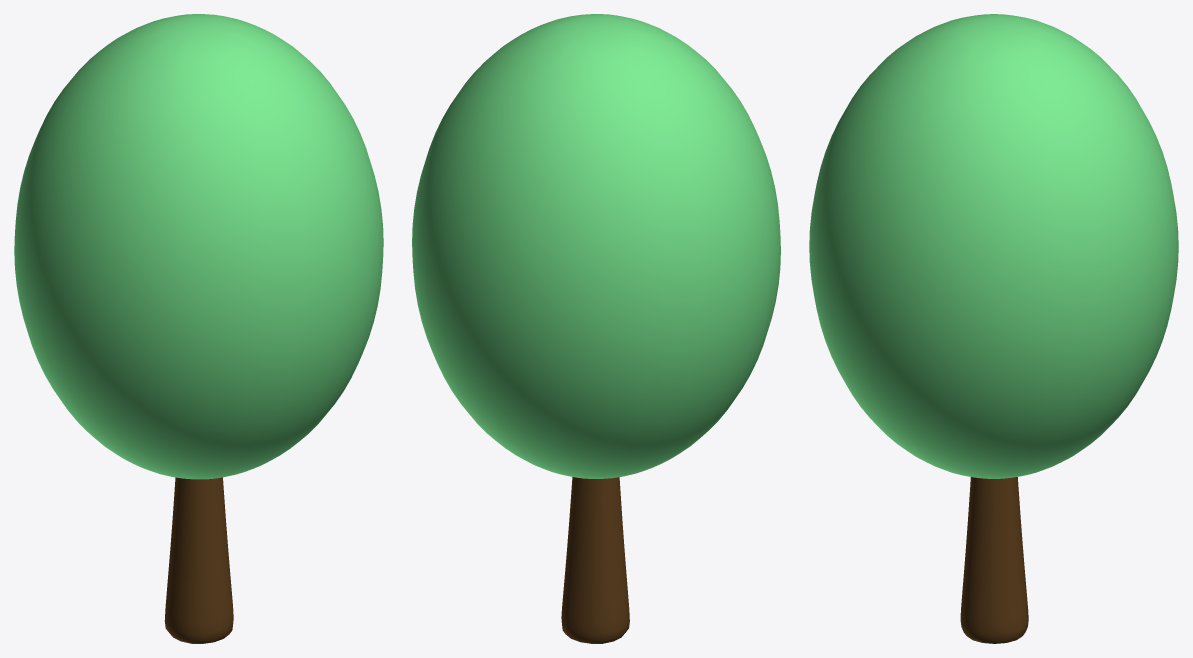
The model's file is treeLP2.glb.
3 views of the same model, side by side, from view 1: azimuth 30°, elevation 25°; view 2: azimuth 150°, elevation 25°; view 3: azimuth 270°, elevation 25° (orthographic).
Visible parts, largest first — view 1: Sphere, Cube; view 2: Sphere, Cube; view 3: Sphere, Cube.
Boxes of the visible parts, box(x1,y1,x2,y2) form: Sphere: box(14, 14, 383, 479); Cube: box(164, 477, 233, 643); Sphere: box(412, 14, 780, 478); Cube: box(561, 477, 629, 643); Sphere: box(809, 14, 1178, 478); Cube: box(960, 477, 1028, 643).
Bounding box in the file's own units: 6.05 × 10.98 × 6.05.
